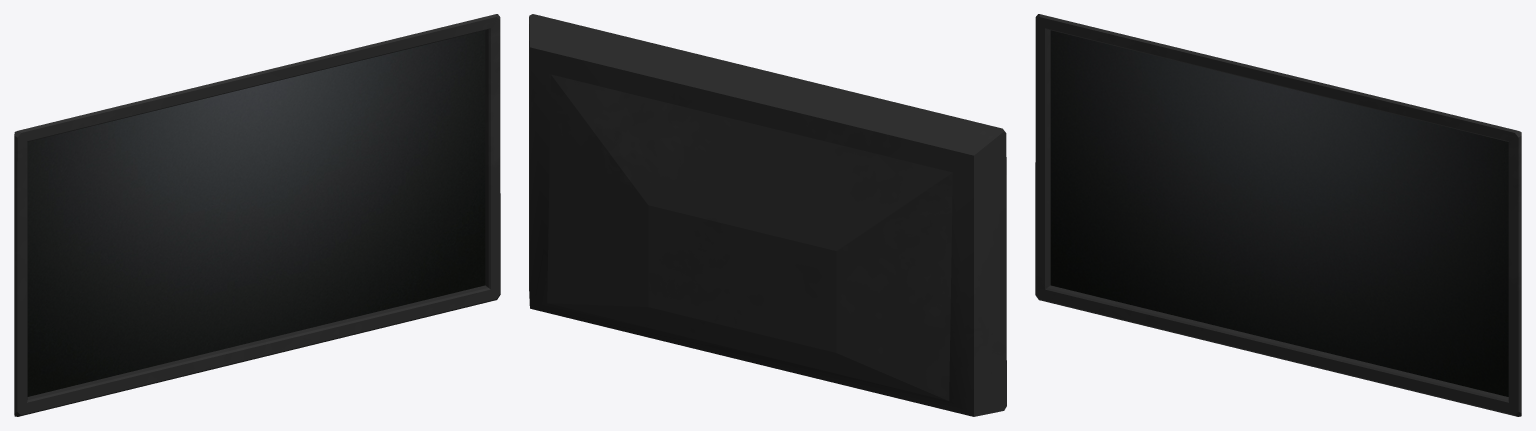
The model's file is Monitor2.fbx.
The picture shows the model from 3 angles, left to right: view 1: azimuth 30°, elevation 25°; view 2: azimuth 150°, elevation 25°; view 3: azimuth 330°, elevation 25°; orthographic projection.
Parts seen in each view (by area): view 1: pCube2; view 2: pCube2; view 3: pCube2.
Part boxes in pixels (x1=…): pCube2: x1=14, y1=14, x2=500, y2=416; pCube2: x1=529, y1=14, x2=1006, y2=416; pCube2: x1=1035, y1=14, x2=1521, y2=416.
Bounding box in the file's own units: 178 × 99.8 × 17.29.
